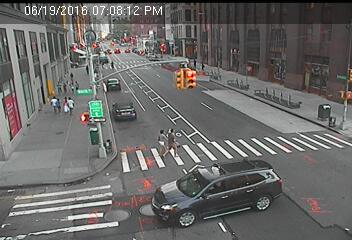neg: (27, 116, 46, 142), (86, 147, 104, 171), (105, 130, 120, 150), (50, 123, 64, 142), (60, 156, 73, 173), (217, 70, 228, 84), (82, 86, 91, 98), (84, 76, 91, 86)
pos: (164, 129, 185, 157), (65, 96, 82, 118), (66, 69, 77, 83), (107, 59, 117, 73), (74, 80, 82, 91)
